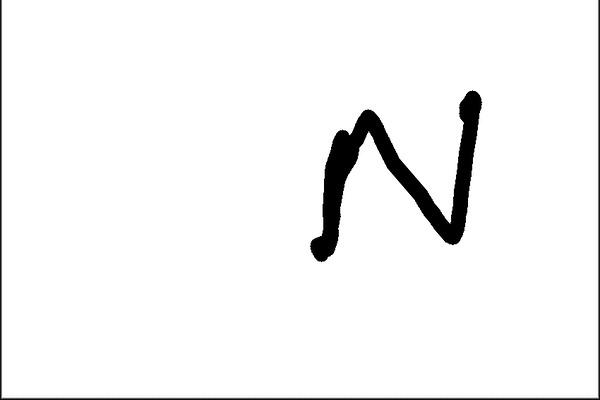N: (305, 86, 487, 263)
